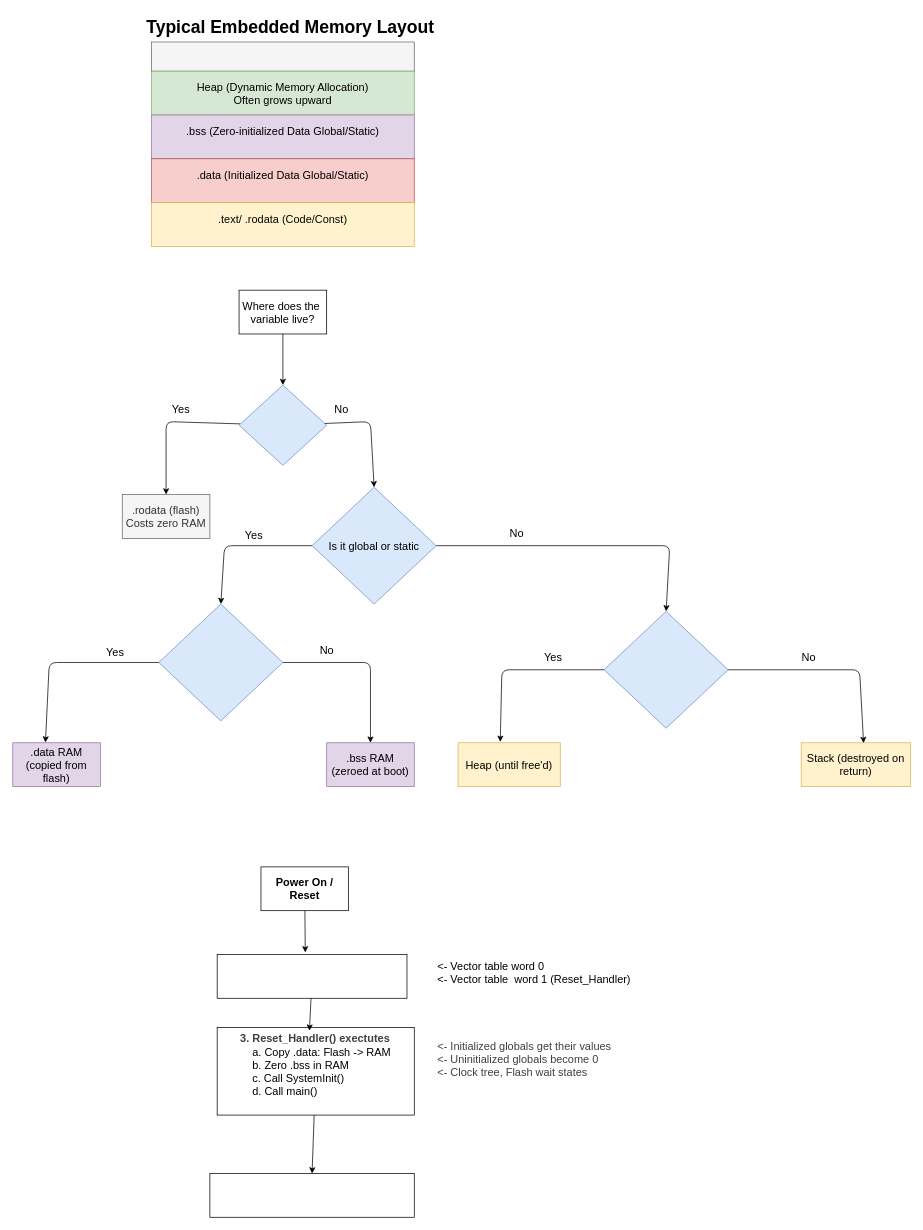
Some shapes in this 923 by 1230 pixel diagram are drawn without their labels. Each missing label, with the centre of its shape:
1. Hardware loads SP from 0x00 2. Hardware loads PC from 0x04: the point at 311,976
4. main() runs (if main returns -> hang): the point at 311,1195
Is it const: the point at 282,424
Is it initializer: the point at 220,662
Is it malloc'd: the point at 665,669
Stack (Local Variables) Often grows downward: the point at 282,56
